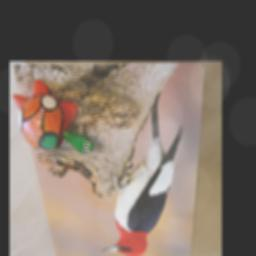Woodpecker: (101, 91, 184, 256)
